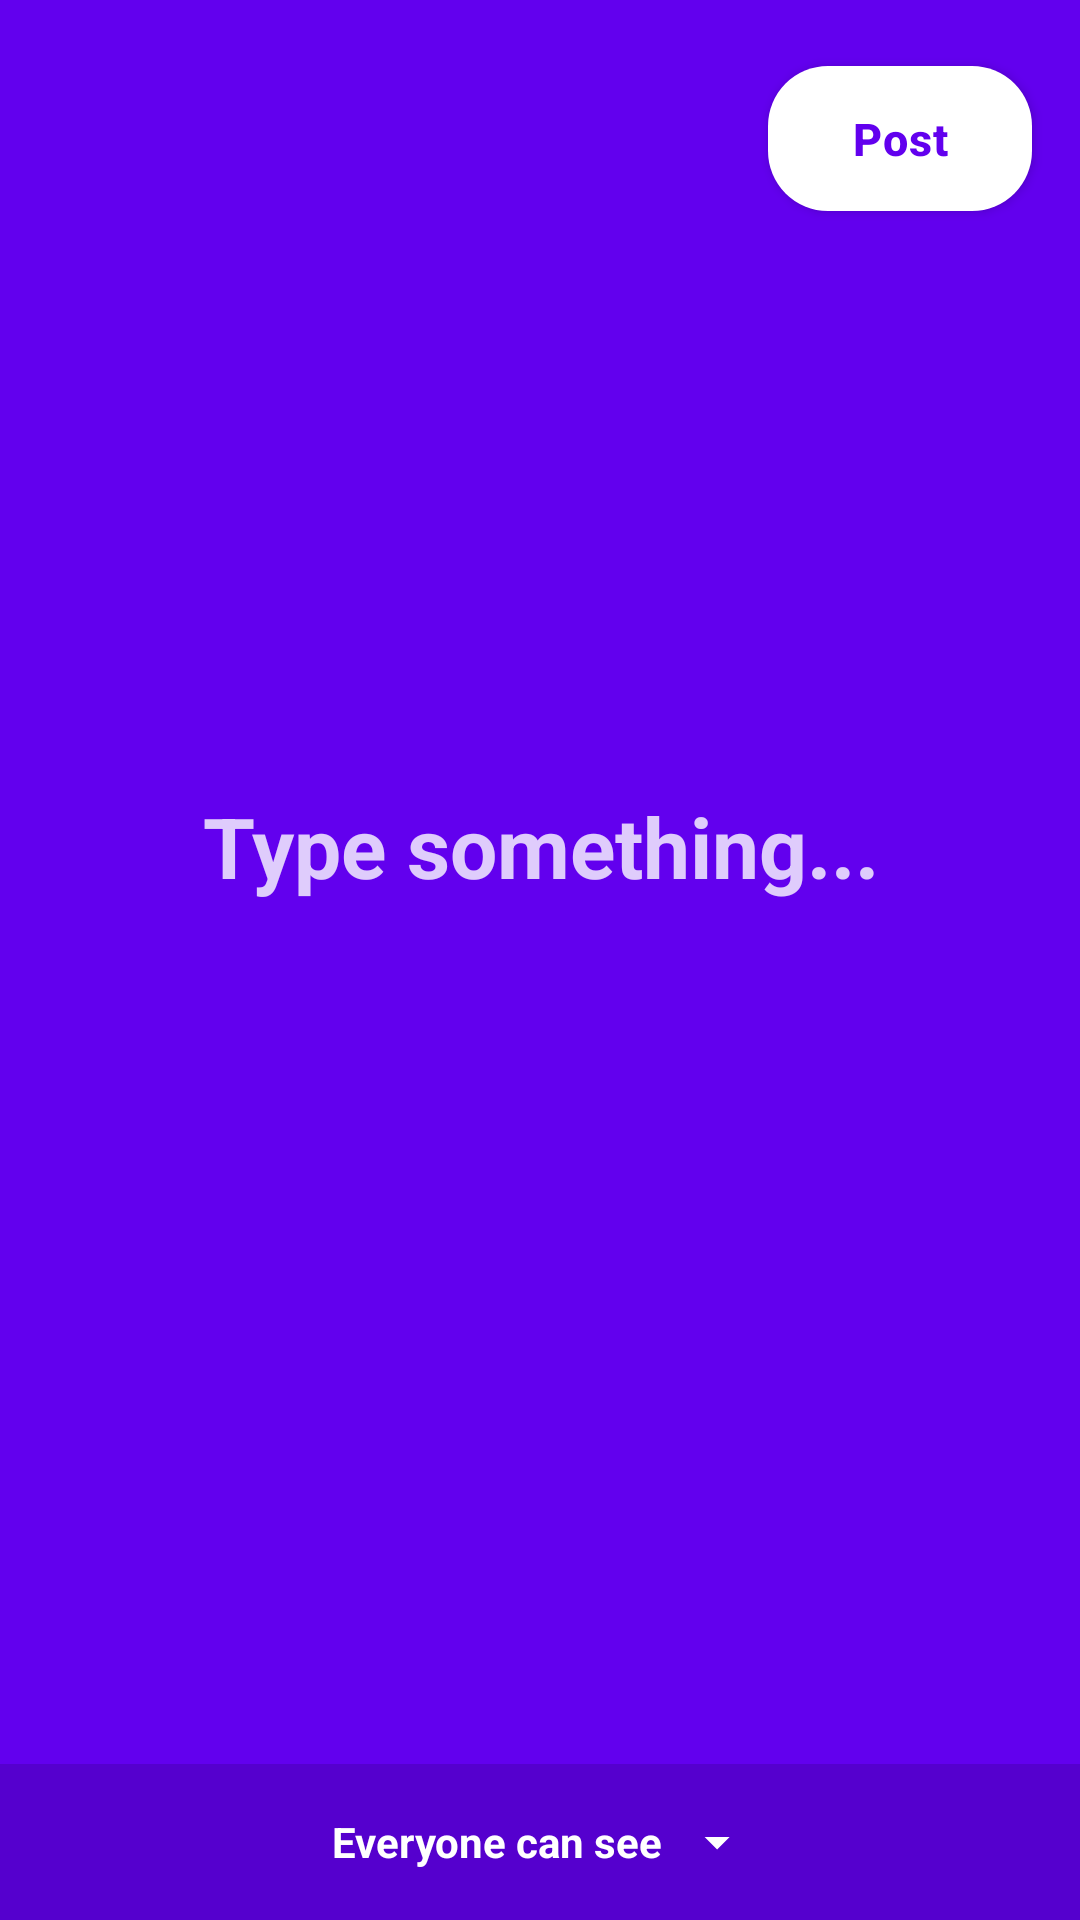

Named icons in this screenshot (1080px×1920px) and their centers, (x,y):
down: (717,1843)
